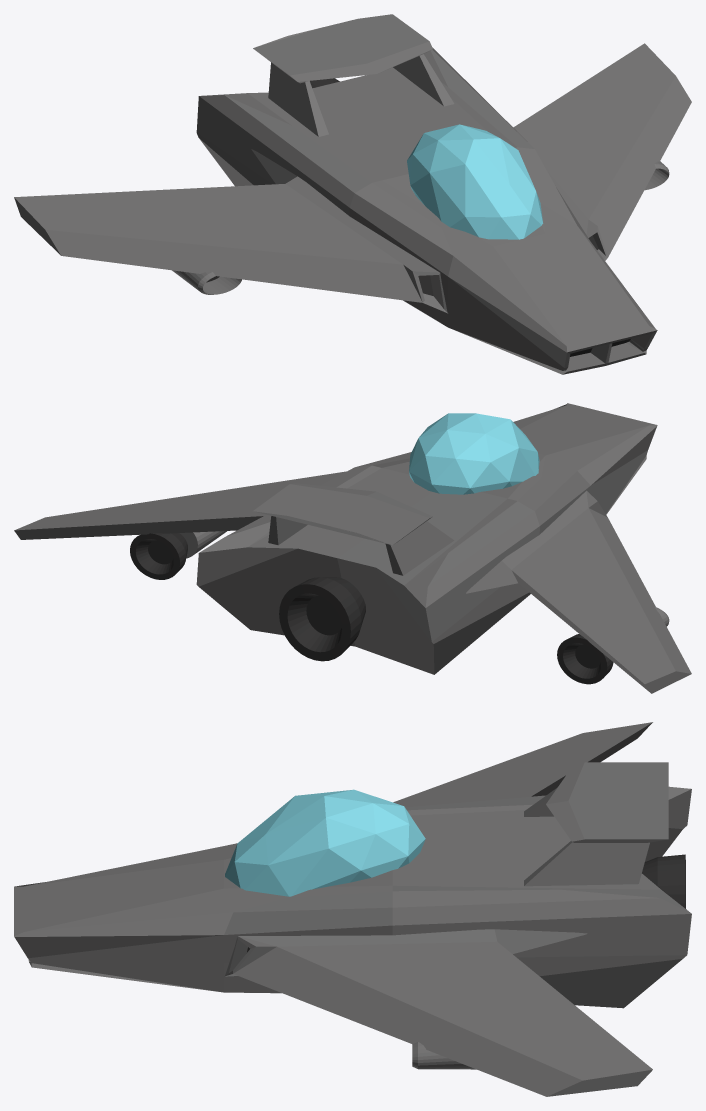
The model's file is space brigade starbird 2.glb.
3 renders of one model, top to bottom at view 1: azimuth 30°, elevation 25°; view 2: azimuth 150°, elevation 25°; view 3: azimuth 270°, elevation 25°, orthographic. The views are drawn at different scales.
Visible parts, largest first — view 1: Hull, Wings, Canopy, Spoiler, Spoiler Strut, Turbine.R; view 2: Hull, Wings, Canopy, Spoiler, Engine, Spoiler Strut, Engine.L, Engine.R, Turbine.L; view 3: Hull, Wings, Canopy, Spoiler, Spoiler Strut, Engine, Turbine.L.
Boxes of the visible parts, x1,y1,x2,y2 form: Hull: (196,47,657,374); Wings: (14,43,691,313); Canopy: (407,124,543,239); Spoiler: (253,14,432,83); Spoiler Strut: (268,54,454,136); Turbine.R: (172,270,241,294); Hull: (196,403,657,674); Wings: (14,471,691,693); Canopy: (409,413,539,494); Spoiler: (253,483,432,545); Engine: (279,577,365,661); Spoiler Strut: (268,516,454,575); Engine.L: (130,533,187,579); Engine.R: (557,634,613,684); Turbine.L: (179,531,226,558); Hull: (14,786,691,1008); Wings: (224,722,652,1096); Canopy: (225,789,425,896); Spoiler: (546,762,668,842); Spoiler Strut: (524,787,649,886); Engine: (642,854,685,908); Turbine.L: (412,1042,476,1069).
Bounding box in the file's own units: 8.56 × 1.89 × 7.06.
Materials: 2 (1 with a texture image).
